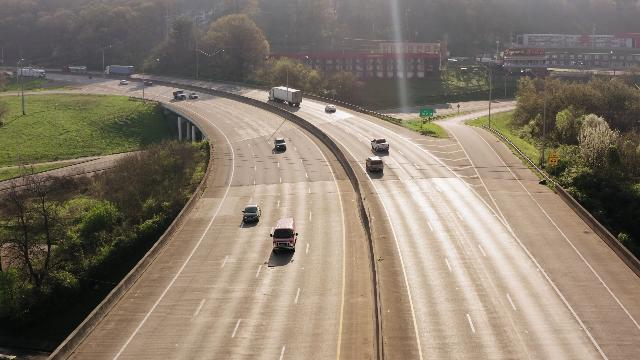car: (241, 202, 264, 227), (366, 156, 383, 174), (273, 139, 288, 153), (324, 102, 337, 114), (189, 92, 200, 99), (142, 80, 153, 86), (119, 80, 130, 85)
pickup-truck: (371, 137, 389, 153), (170, 88, 187, 99)
truck: (267, 83, 303, 108), (103, 64, 134, 76), (59, 65, 89, 74)
van: (272, 218, 300, 255)
